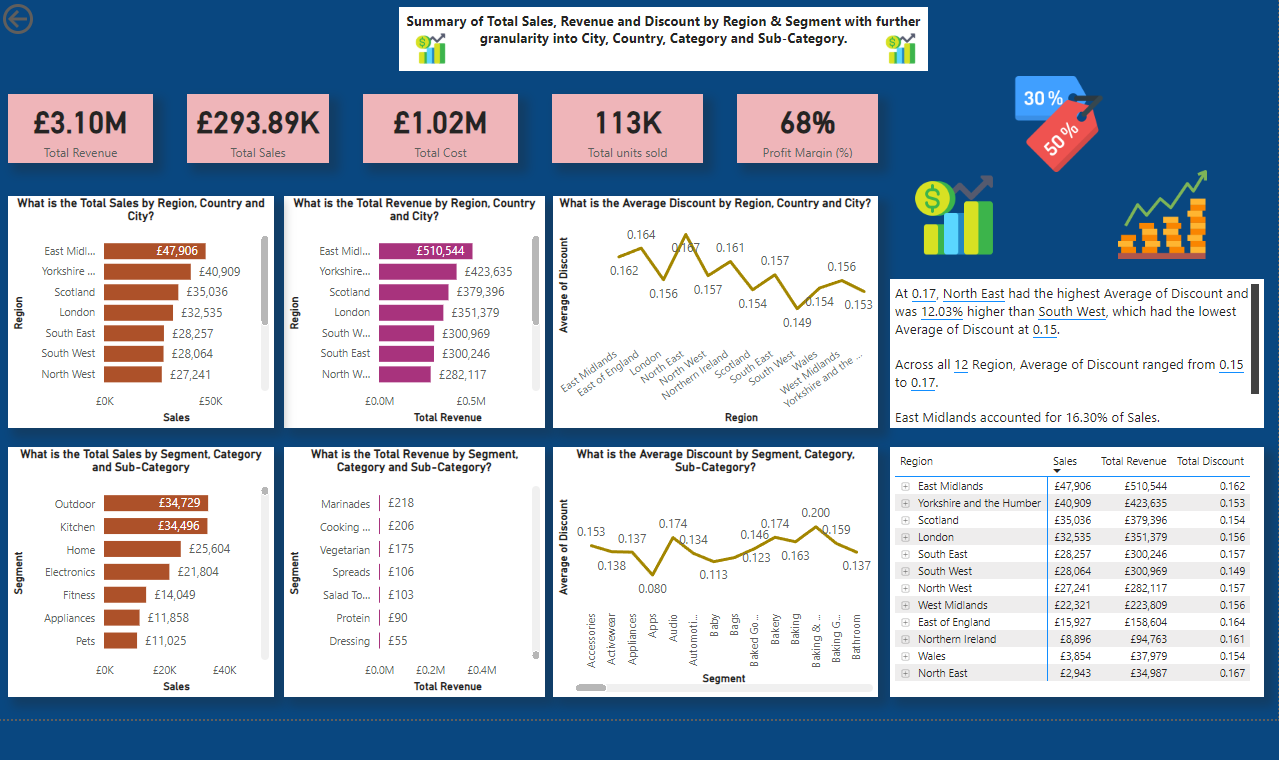

What the dashboard file says about the page in this screenshot:
{"tool":"powerbi","page":{"name":"Summary of sales, revenue and discount rates","canvas":[1280,720],"ordinal":0},"visuals":[{"type":"clusteredBarChart","title":"What is the Total Revenue by Region, Country and City?","fields":{"Category":["Ace Superstore RetailFact.Region-Adjusted","Ace Superstore RetailFact.Country-Adjusted","Ace Superstore RetailFact.City"],"Y":["0-Measure.Total Revenue"]},"box":[286,197.4,260.7,231.5],"z":0},{"type":"card","fields":{"Values":["0-Measure.Total Revenue"]},"box":[9.7,95.3,144.9,69.1],"z":1000},{"type":"card","fields":{"Values":["Sum(Ace Superstore RetailFact.Sales)"]},"box":[188.9,95.3,142,69.1],"z":2000},{"type":"card","fields":{"Values":["0-Measure.Total Cost"]},"box":[365.2,95.3,154.7,69.1],"z":3000},{"type":"clusteredBarChart","title":"What is the Total Sales by Segment, Category and Sub-Category","fields":{"Category":["Ace Superstore RetailFact.Segment","Ace Superstore RetailFact.Category","Ace Superstore RetailFact.Sub-Category"],"Y":["Sum(Ace Superstore RetailFact.Sales)"]},"box":[9.7,448.4,266.5,250],"z":4000},{"type":"clusteredBarChart","title":"What is the Total Revenue by Segment, Category and Sub-Category?","fields":{"Category":["Ace Superstore RetailFact.Segment","Ace Superstore RetailFact.Category","Ace Superstore RetailFact.Sub-Category"],"Y":["0-Measure.Total Revenue"]},"box":[286,448.4,260.7,250],"z":5000},{"type":"clusteredBarChart","title":"What is the Total Sales by Region, Country and City?","fields":{"Y":["Sum(Ace Superstore RetailFact.Sales)"],"Category":["Ace Superstore RetailFact.Region-Adjusted","Ace Superstore RetailFact.Country-Adjusted","Ace Superstore RetailFact.City"]},"box":[9.7,197.4,266.5,231.5],"z":6000},{"type":"actionButton","box":[0,0,100,40],"z":7000},{"type":"lineChart","title":"What is the Average Discount by Region, Country and City?","fields":{"Category":["Ace Superstore RetailFact.Region-Adjusted","Ace Superstore RetailFact.Country-Adjusted","Ace Superstore RetailFact.City"],"Y":["Avg(Ace Superstore RetailFact.Discount)"]},"box":[555.4,197.4,324.9,231.5],"z":8000},{"type":"lineChart","title":"What is the Average Discount by Segment, Category, Sub-Category?","fields":{"Category":["Ace Superstore RetailFact.Segment","Ace Superstore RetailFact.Category","Ace Superstore RetailFact.Sub-Category"],"Y":["Avg(Ace Superstore RetailFact.Discount)"]},"box":[555.4,448.4,324.9,250],"z":9000},{"type":"pivotTable","fields":{"Rows":["Ace Superstore RetailFact.Region-Adjusted","Ace Superstore RetailFact.Segment"],"Values":["Sum(Ace Superstore RetailFact.Sales)","0-Measure.Total Revenue","0-Measure.Total Discount"]},"box":[891.9,448.4,374.5,250],"z":10000},{"type":"card","fields":{"Values":["0-Measure.Total Units"]},"box":[554.2,95.3,150.8,69.1],"z":11000},{"type":"card","fields":{"Values":["0-Measure.Profit Margin (%)"]},"box":[739.2,95.3,141,69.1],"z":12000},{"type":"textbox","box":[400.7,7.8,529.1,64.2],"z":13000},{"type":"image","box":[1006.7,72,108,106],"z":14000},{"type":"image","box":[904.6,164.4,102.1,102.1],"z":15000},{"type":"image","box":[1114.7,164.4,99.2,102.1],"z":16000},{"type":"image","box":[410.5,27.2,44.7,44.7],"z":17000},{"type":"image","box":[880.2,27.2,44.7,44.7],"z":18000},{"type":"textbox","box":[891.9,280.1,374.5,148.8],"z":19000}]}

Visuals, with their boxes in screenshot pixels (x1, y1, x2, y2):
"What is the Total Revenue by Region, Country and City?" clusteredBarChart: l=282, t=195, r=539, b=423
card - 0-Measure.Total Revenue: l=10, t=94, r=152, b=162
card - Sum(Ace Superstore RetailFact.Sales): l=186, t=94, r=326, b=162
card - 0-Measure.Total Cost: l=360, t=94, r=512, b=162
"What is the Total Sales by Segment, Category and Sub-Category" clusteredBarChart: l=10, t=442, r=272, b=688
"What is the Total Revenue by Segment, Category and Sub-Category?" clusteredBarChart: l=282, t=442, r=539, b=688
"What is the Total Sales by Region, Country and City?" clusteredBarChart: l=10, t=195, r=272, b=423
actionButton: l=0, t=0, r=99, b=39
"What is the Average Discount by Region, Country and City?" lineChart: l=547, t=195, r=867, b=423
"What is the Average Discount by Segment, Category, Sub-Category?" lineChart: l=547, t=442, r=867, b=688
pivotTable - Ace Superstore RetailFact.Region-Adjusted x Ace Superstore RetailFact.Segment: l=879, t=442, r=1248, b=688
card - 0-Measure.Total Units: l=546, t=94, r=695, b=162
card - 0-Measure.Profit Margin (%): l=728, t=94, r=867, b=162
textbox: l=395, t=8, r=916, b=71
image: l=992, t=71, r=1098, b=175
image: l=891, t=162, r=992, b=263
image: l=1098, t=162, r=1196, b=263
image: l=405, t=27, r=449, b=71
image: l=867, t=27, r=911, b=71
textbox: l=879, t=276, r=1248, b=423
